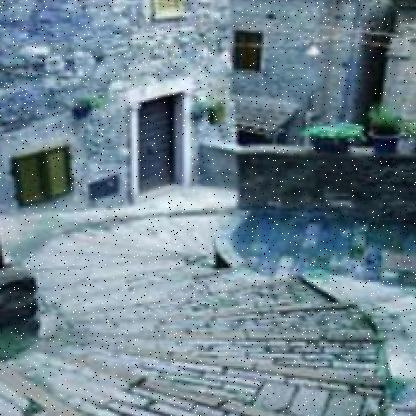stair_down: (34, 304, 304, 416)
